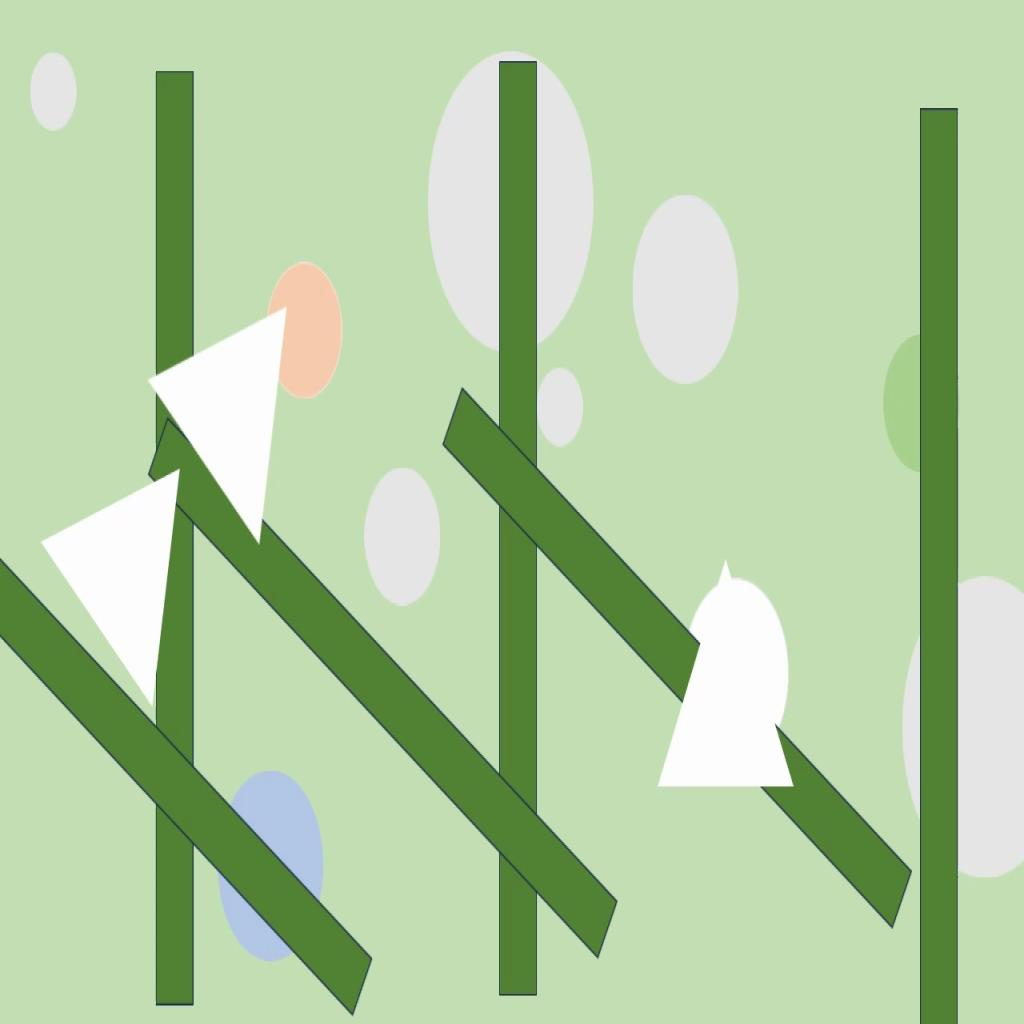Circle: (428, 52, 596, 353), (901, 572, 1024, 879), (220, 768, 326, 964), (633, 192, 741, 383), (684, 578, 789, 752), (364, 462, 442, 607), (885, 334, 963, 474), (266, 260, 343, 396), (28, 50, 80, 134), (536, 364, 586, 449)
